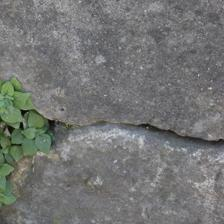Crack: (29, 56, 193, 104)
